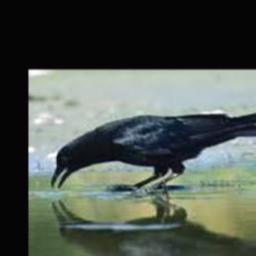Crow: (50, 109, 256, 192)
